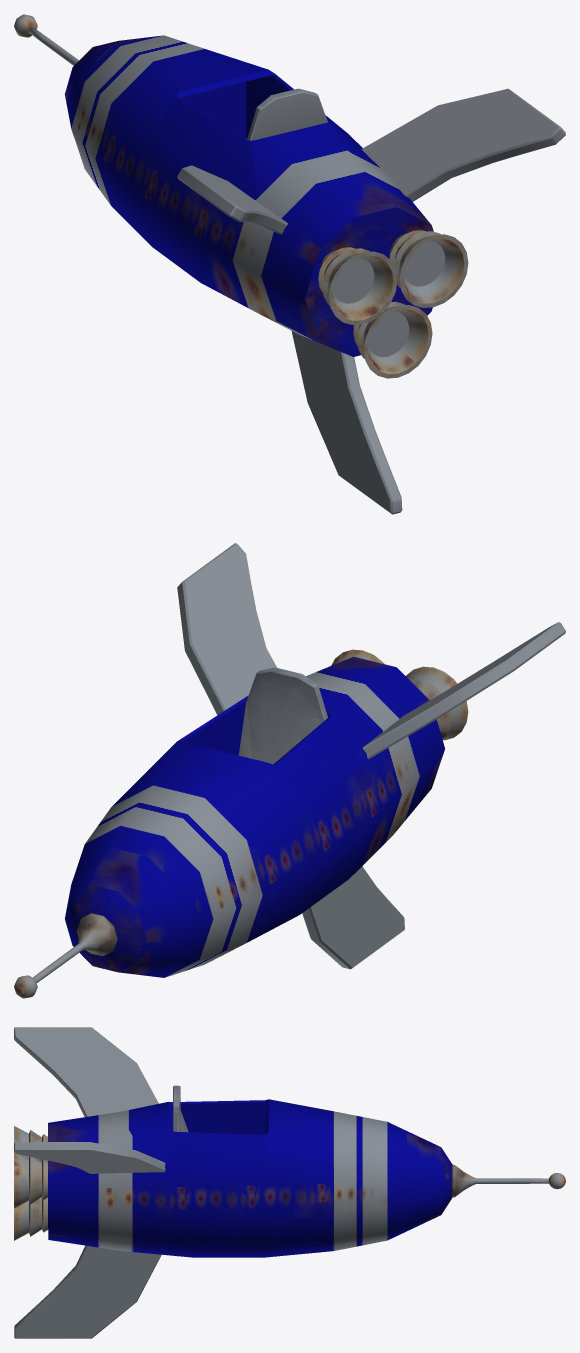
The model's file is rocketblue.fbx.
3 renders of one model, top to bottom at view 1: azimuth 30°, elevation 25°; view 2: azimuth 150°, elevation 25°; view 3: azimuth 270°, elevation 25°, orthographic. The views are drawn at different scales.
Visible parts, largest first — view 1: RocketBlue; view 2: RocketBlue; view 3: RocketBlue.
Part boxes in pixels (x1,y1,x2,y2): RocketBlue: (14, 14, 565, 514); RocketBlue: (14, 543, 565, 998); RocketBlue: (14, 1027, 565, 1338).
Size of the model in its own units: 5.2 by 5.13 by 10.15.
